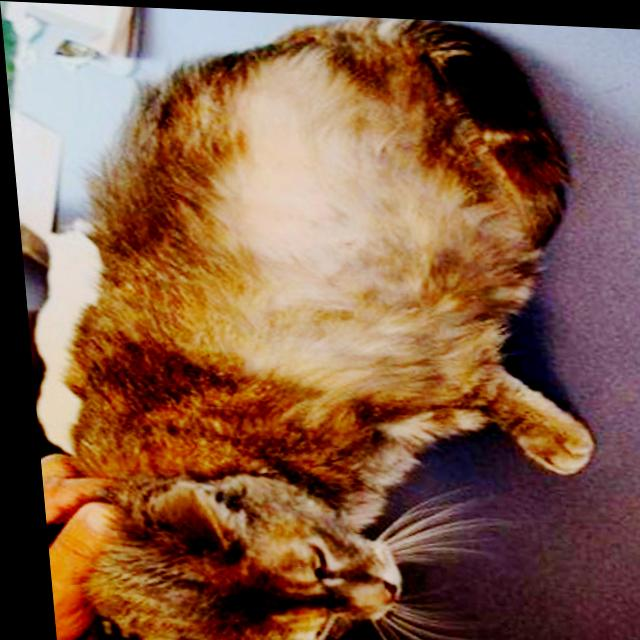hairloss: (237, 57, 368, 265)
